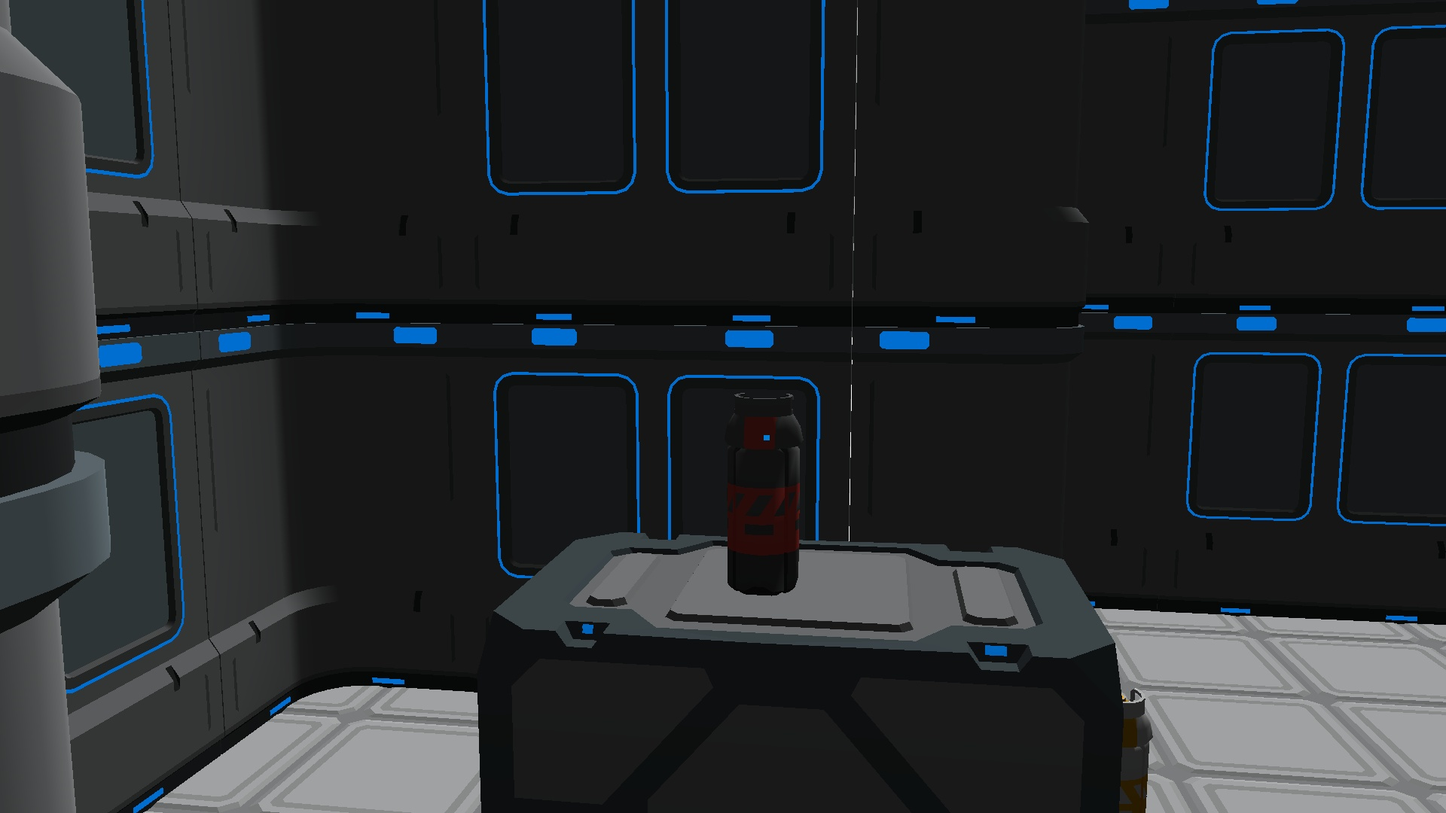red barrel: (727, 393, 803, 595)
yellow barrel: (1120, 689, 1153, 813)
